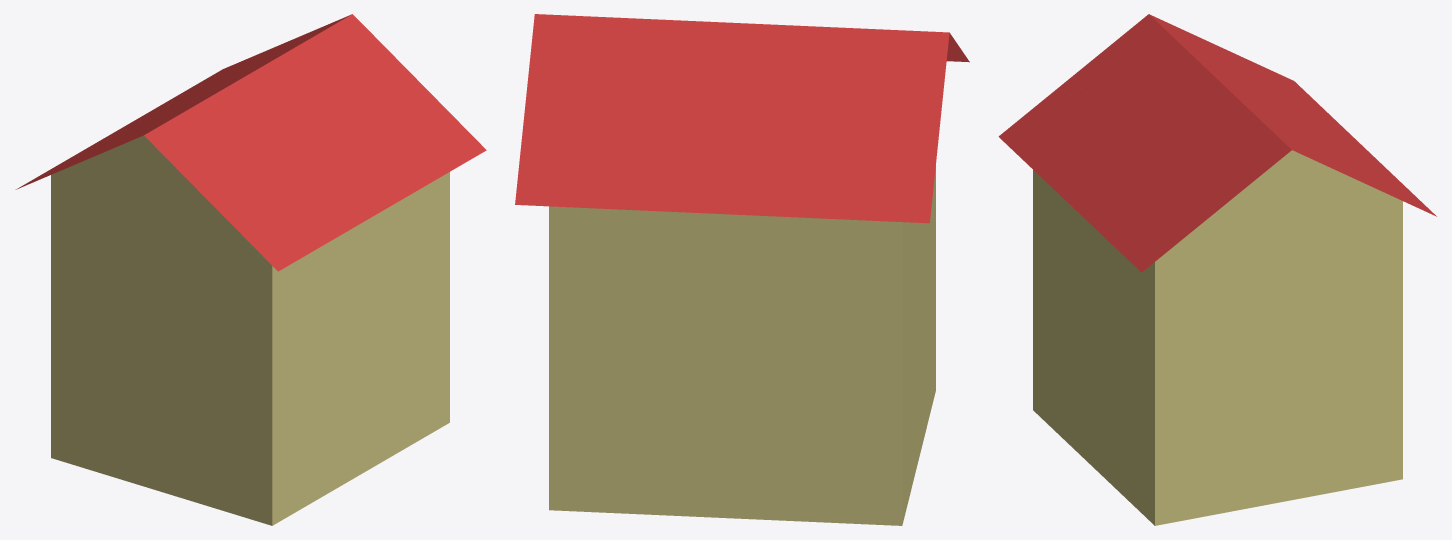
3 renders of one model, left to right at view 1: azimuth 30°, elevation 25°; view 2: azimuth 150°, elevation 25°; view 3: azimuth 270°, elevation 25°, orthographic. The views are drawn at different scales.
Bounding box in the file's own units: 13.01 × 12.6 × 11.46.
